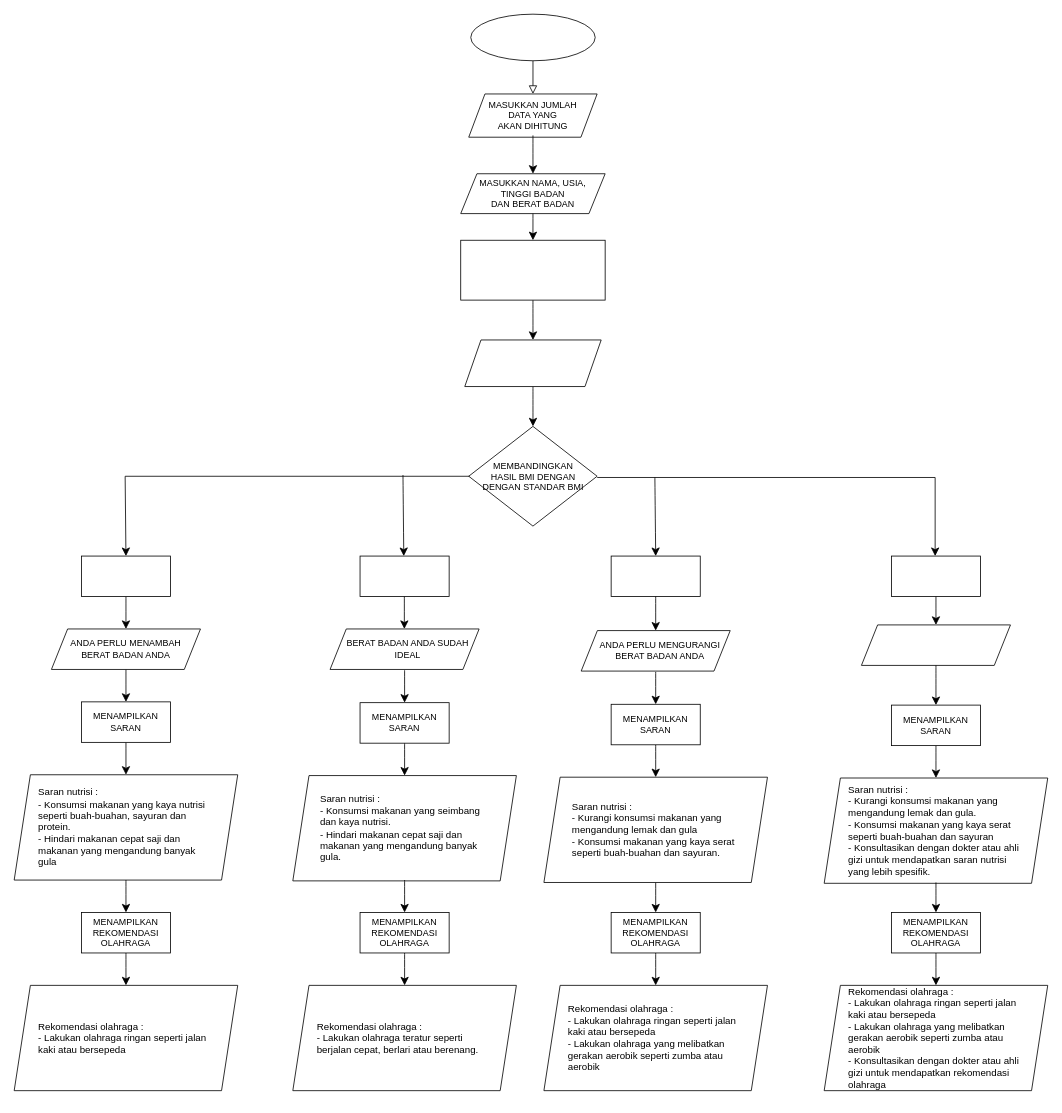
Image size: 1062x1113. Some labels were removed from this diagram. The box of each missing label's shape, as (x1, y1, x2, y2) in pixels:
ANDA MENGALAMI OBESITAS. SEGERA KONSULTASIKAN DENGAN DOKTER ATAU AHLI GIZI: (861, 624, 1010, 665)
BMI < 18.5: (81, 555, 171, 597)
BMI > 34.9: (891, 555, 981, 597)
BMI >= 18.5 DAN BMI <= 24.9: (359, 555, 449, 597)
BMI >= 30 DAN BMI <= 34.9: (610, 555, 700, 597)
HASIL BMI: (464, 339, 601, 387)
MENGHITUNG BMI BMI = BB / (TB * TB): (460, 239, 605, 300)
MULAI: (470, 13, 595, 61)
